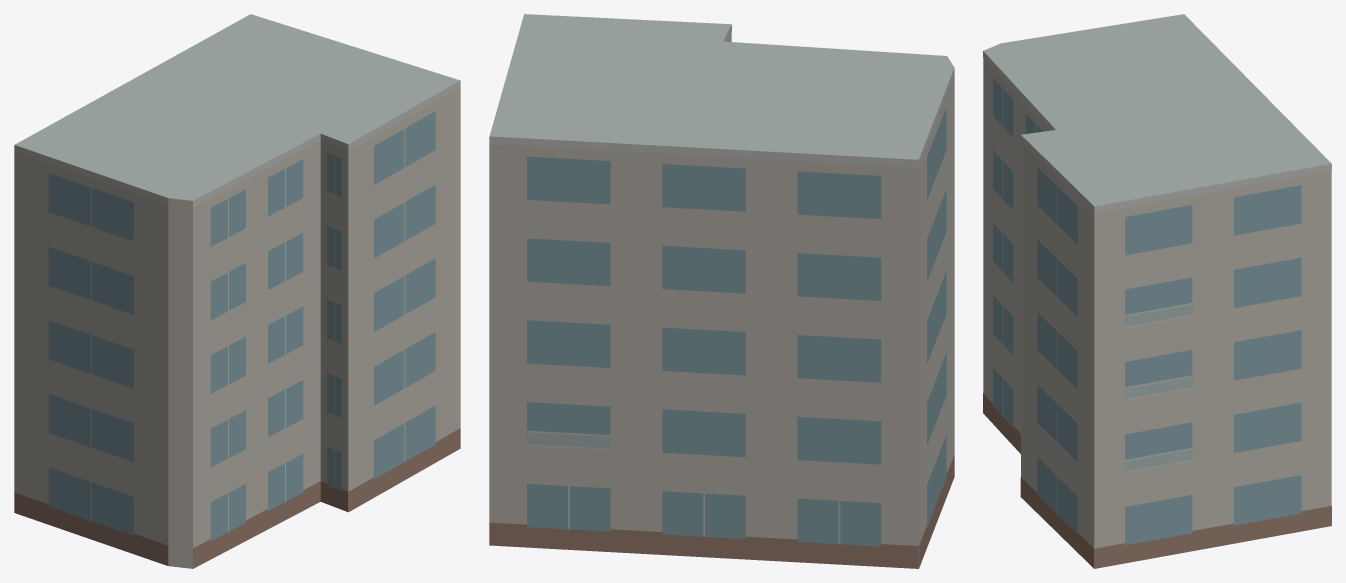
The model's file is survey-upis-33038026.glb.
The picture shows the model from 3 angles, left to right: view 1: azimuth 30°, elevation 25°; view 2: azimuth 150°, elevation 25°; view 3: azimuth 270°, elevation 25°; orthographic projection. The views are drawn at different scales.
Parts seen in each view (by area): view 1: survey-upis-33038026.tmp; view 2: survey-upis-33038026.tmp; view 3: survey-upis-33038026.tmp.
Boxes of the visible parts, left/top/right/bottom form: survey-upis-33038026.tmp: left=14, top=14, right=460, bottom=568; survey-upis-33038026.tmp: left=489, top=14, right=954, bottom=568; survey-upis-33038026.tmp: left=983, top=14, right=1331, bottom=568.
Size of the model in its own units: 15.22 by 13.35 by 11.65.
